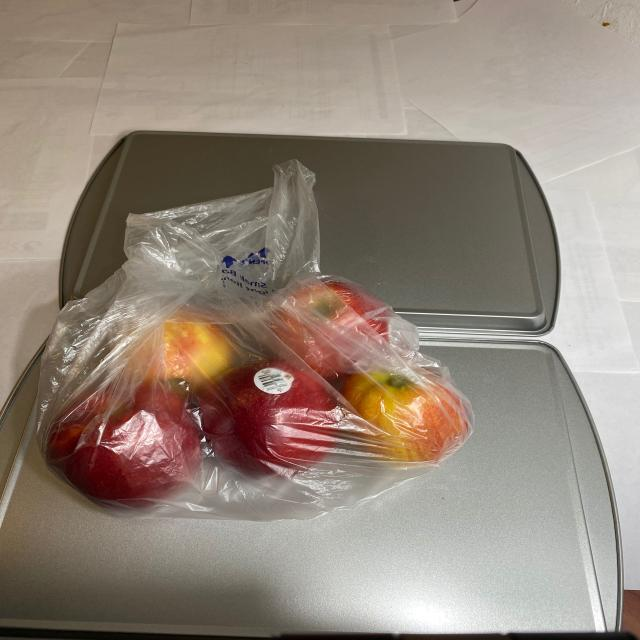apple: (37, 277, 481, 522)
